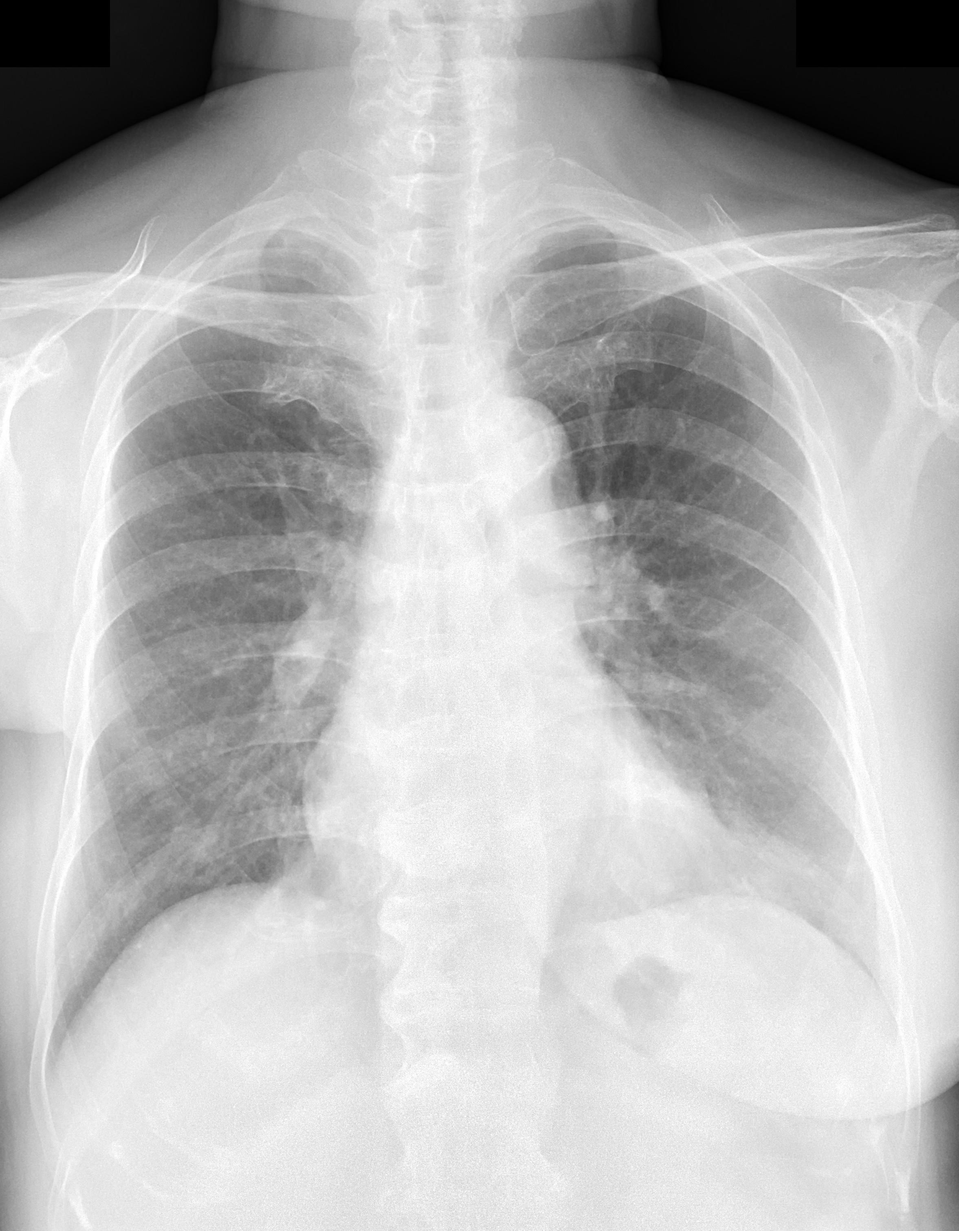Aortic enlargement: (456, 401, 589, 552)
Pleural thickening: (493, 219, 733, 301), (283, 226, 359, 288)
